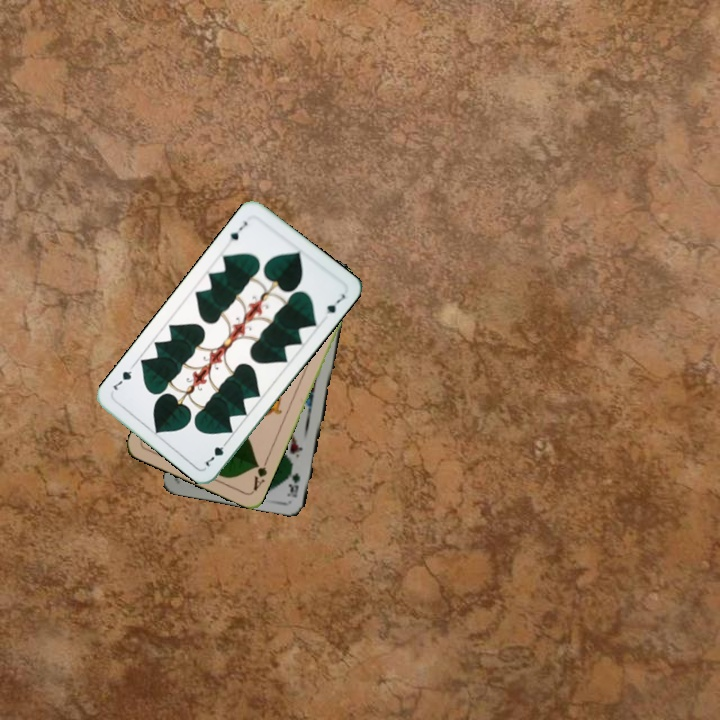G7: (198, 436, 232, 469), (226, 217, 250, 243)
GA: (249, 455, 271, 493)
GK: (286, 469, 303, 500)
